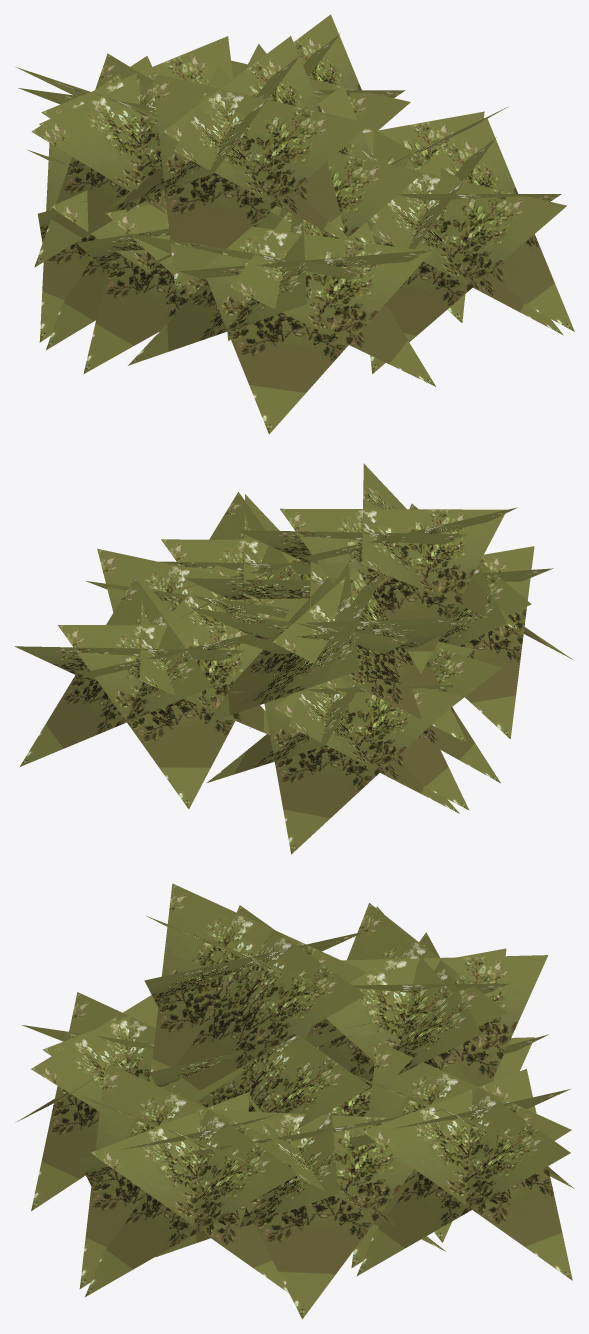
File: flora_tree_bush_steppe_03_v2.glb
3 renders of one model, top to bottom at view 1: azimuth 30°, elevation 25°; view 2: azimuth 150°, elevation 25°; view 3: azimuth 270°, elevation 25°, orthographic. The views are drawn at different scales.
Parts seen in each view (by area): view 1: flora_tree_bush_steppe_03_v2_part0; view 2: flora_tree_bush_steppe_03_v2_part0; view 3: flora_tree_bush_steppe_03_v2_part0.
Boxes of the visible parts, x1,y1,x2,y2 form: flora_tree_bush_steppe_03_v2_part0: (16, 14, 574, 434); flora_tree_bush_steppe_03_v2_part0: (14, 463, 572, 854); flora_tree_bush_steppe_03_v2_part0: (15, 883, 574, 1319).
Bounding box in the file's own units: 12.63 × 6.92 × 13.59.
Materials: 1 (1 with a texture image).
